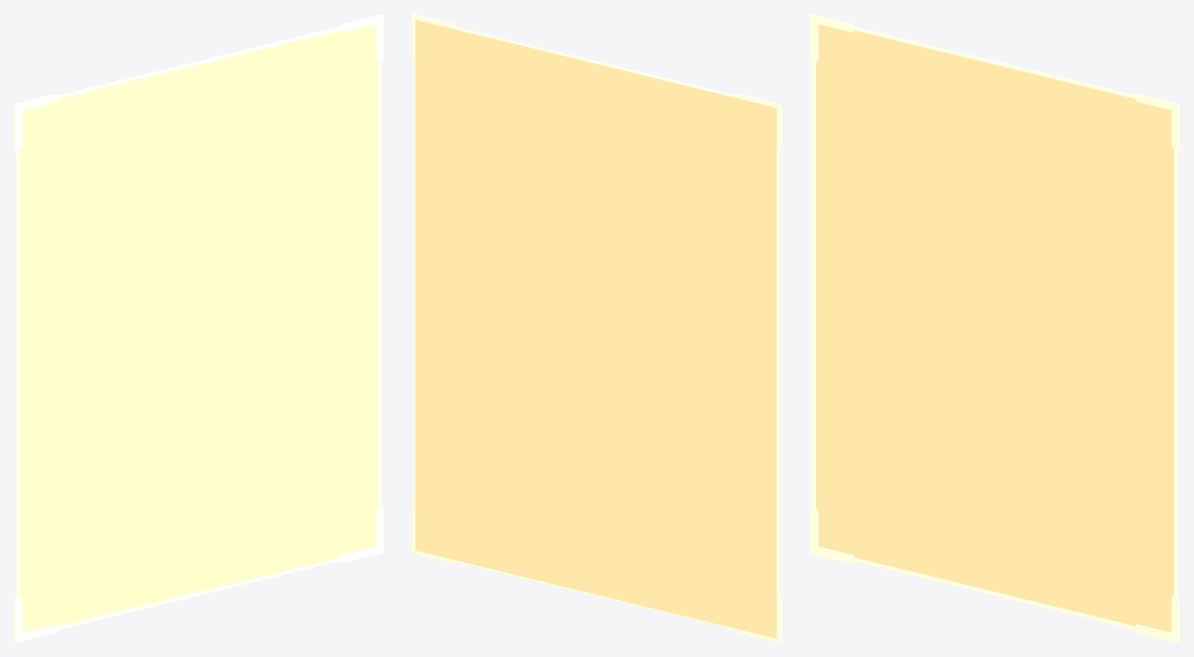
File: slot_outline_16hp.glb
3 renders of one model, left to right at view 1: azimuth 30°, elevation 25°; view 2: azimuth 150°, elevation 25°; view 3: azimuth 330°, elevation 25°, orthographic.
Parts seen in each view (by area): view 1: SlotOutline_Fill, SlotOutline_Edge, SlotOutline_Corner2, SlotOutline_Corner3, SlotOutline_Corner1, SlotOutline_Corner0; view 2: SlotOutline_Fill, SlotOutline_Edge; view 3: SlotOutline_Fill, SlotOutline_Edge, SlotOutline_Corner2, SlotOutline_Corner3, SlotOutline_Corner0, SlotOutline_Corner1.
Part boxes in pixels (x1,y1,x2,y2): SlotOutline_Fill: (20, 24, 377, 632); SlotOutline_Edge: (16, 26, 381, 629); SlotOutline_Corner2: (340, 14, 383, 61); SlotOutline_Corner3: (14, 93, 57, 149); SlotOutline_Corner1: (340, 507, 383, 563); SlotOutline_Corner0: (14, 595, 57, 642); SlotOutline_Fill: (415, 19, 776, 638); SlotOutline_Edge: (414, 17, 779, 639); SlotOutline_Fill: (816, 24, 1173, 632); SlotOutline_Edge: (812, 26, 1177, 629); SlotOutline_Corner2: (1136, 93, 1179, 149); SlotOutline_Corner3: (810, 14, 853, 61); SlotOutline_Corner0: (810, 507, 853, 563); SlotOutline_Corner1: (1136, 595, 1179, 642).
Size of the model in its own units: 0.8248 by 1.15 by 0.006.
